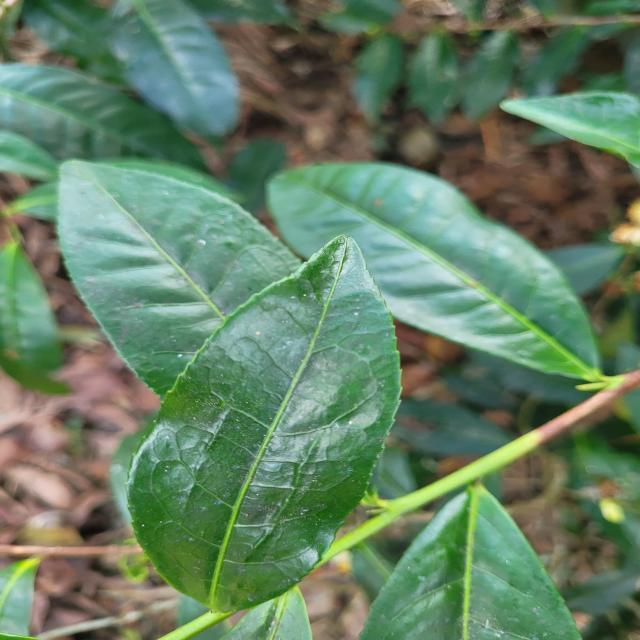Category D(7+ days, Not for Tea): (100, 222, 412, 628)
